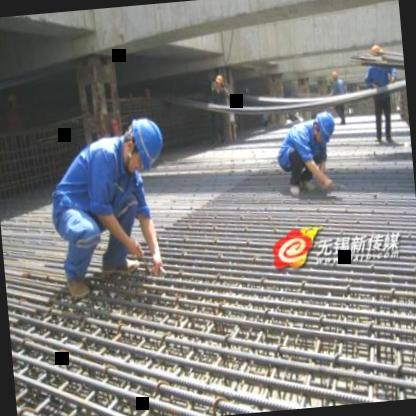helmet: (121, 114, 168, 178), (312, 107, 342, 146)
